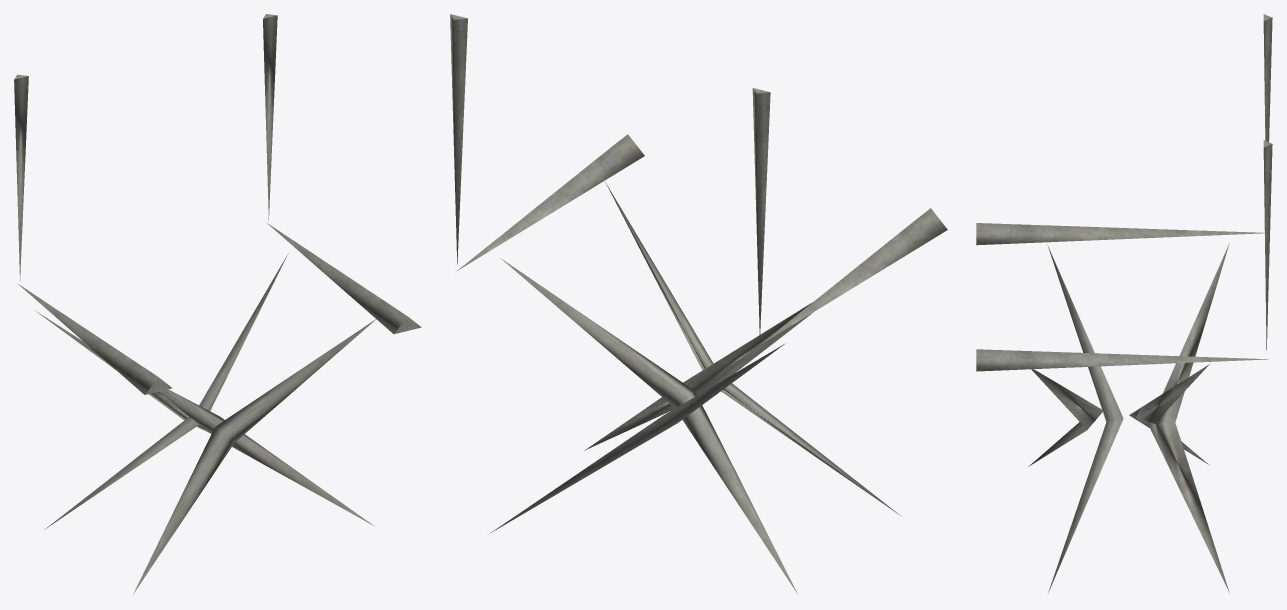
Rendered from eqp_camping_chair_s1_l3.fbx.
3 renders of one model, left to right at view 1: azimuth 30°, elevation 25°; view 2: azimuth 150°, elevation 25°; view 3: azimuth 270°, elevation 25°, orthographic. The views are drawn at different scales.
Parts seen in each view (by area): view 1: mesh_node; view 2: mesh_node; view 3: mesh_node.
Boxes of the visible parts, box(x1,y1,x2,y2) form: mesh_node: box(14, 14, 421, 594); mesh_node: box(450, 14, 947, 593); mesh_node: box(976, 14, 1272, 593).
Size of the model in its own units: 0.5621 by 0.8463 by 0.5003.
Materials: 1 (1 with a texture image).
